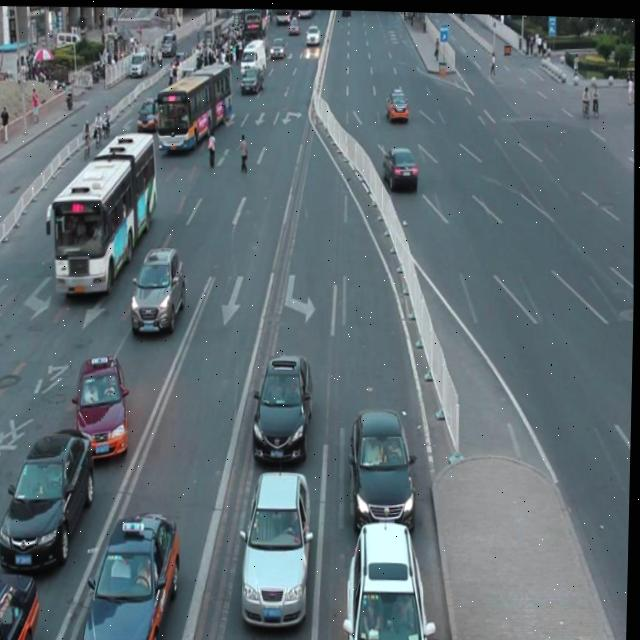car: (0, 423, 99, 574), (81, 503, 184, 640), (240, 462, 316, 624), (344, 513, 437, 640), (349, 399, 418, 529), (250, 347, 316, 463), (74, 349, 134, 460), (130, 242, 188, 334), (0, 566, 43, 640), (380, 141, 419, 189)
van: (51, 128, 160, 294)
